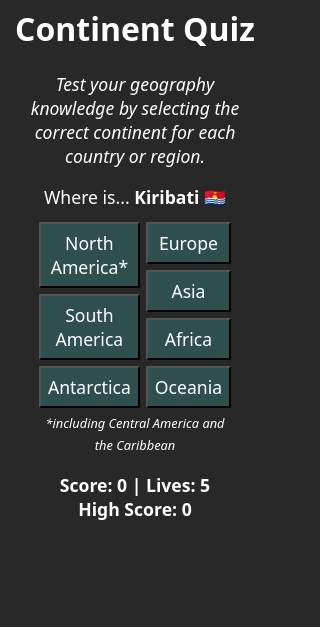
Test: App › should increment score or decrement lives based on answer correctness
Expected: the text labelled "Score" reads "Score: 0", x1=60 y1=473 x2=132 y2=497
Expected: the text "| Lives: 5" is shown, x1=132 y1=473 x2=210 y2=497
Click the button "Oceania".
click(188, 388)  # box x1=146 y1=366 x2=231 y2=408
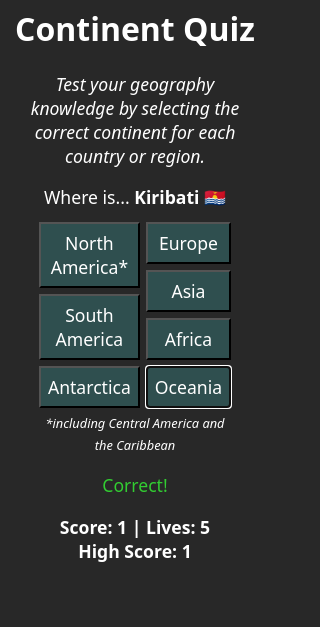
Expected: the text "| Lives: 5" is shown, x1=132 y1=515 x2=210 y2=539
Now the text labelled "Score" reads "Score: 1", box x1=60 y1=515 x2=132 y2=539
Click the button "Africa".
click(188, 340)  # box x1=146 y1=318 x2=231 y2=360
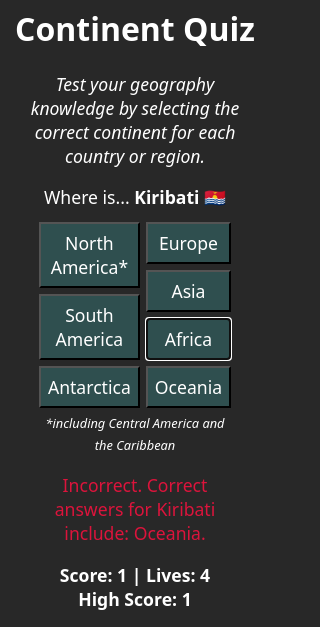
Now the text labelled "Score" reads "Score: 1", box x1=60 y1=563 x2=132 y2=587
Now the text "| Lives: 4" is shown, box x1=132 y1=563 x2=210 y2=587
Click the button "Oceania".
click(188, 388)  # box x1=146 y1=366 x2=231 y2=408
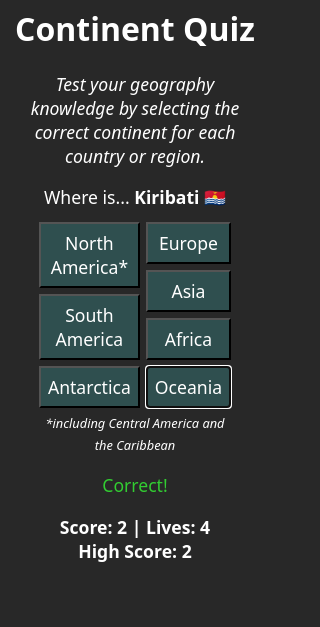
Click the button "Oceania".
click(188, 388)  # box x1=146 y1=366 x2=231 y2=408
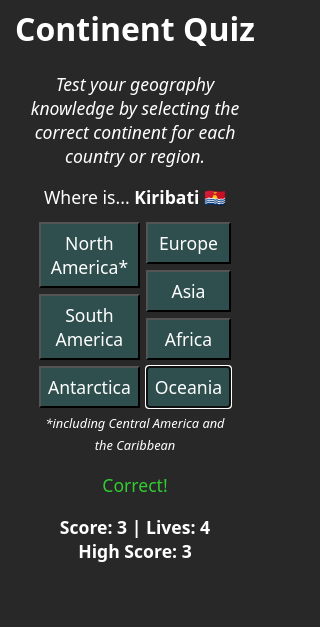
Click the button "Africa".
click(188, 340)  # box x1=146 y1=318 x2=231 y2=360
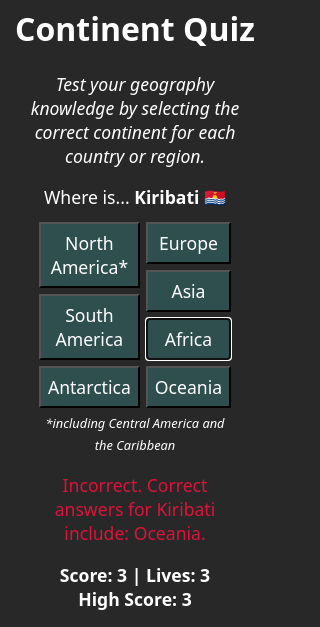
Click the button "Africa".
click(188, 340)  # box x1=146 y1=318 x2=231 y2=360
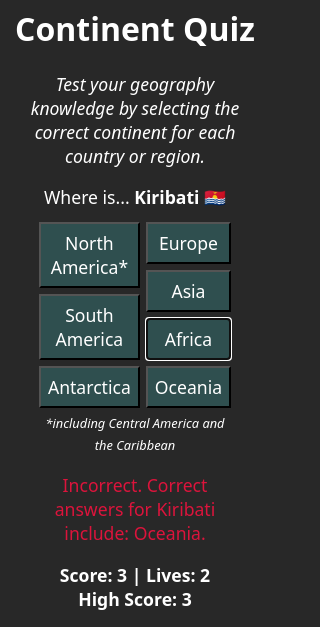
Now the text labelled "Score" reads "Score: 3", box x1=60 y1=563 x2=132 y2=587
Now the text "| Lives: 2" is shown, box x1=132 y1=563 x2=210 y2=587
